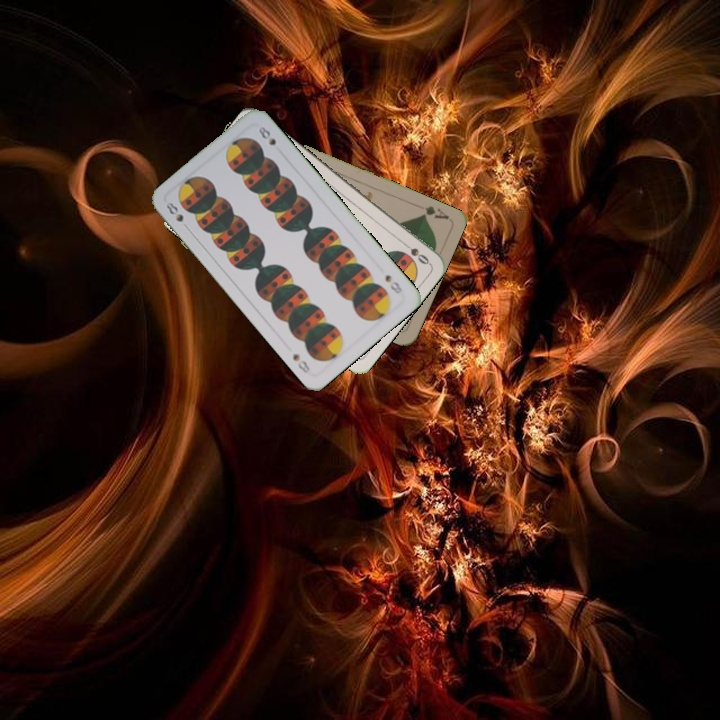GA: (417, 201, 452, 222)
S8: (162, 198, 186, 225), (381, 270, 405, 296)
SO: (397, 237, 432, 267)
